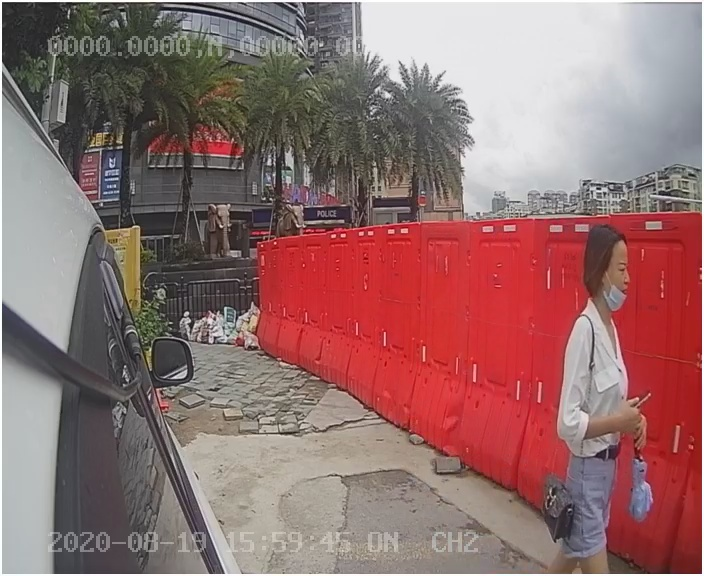person: (533, 223, 670, 563)
